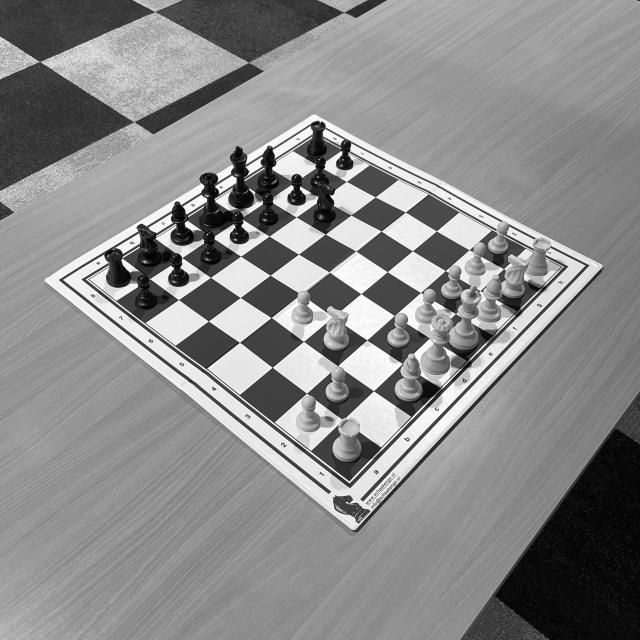chessboard: (87, 133, 562, 483)
